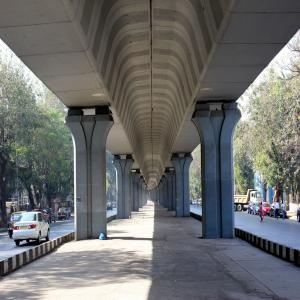Vehicle-registration-plate: (21, 226, 28, 230)
